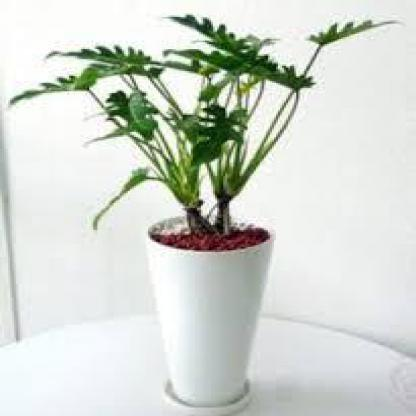Kenanga: (321, 298, 415, 351), (300, 49, 353, 104), (138, 308, 185, 343)
